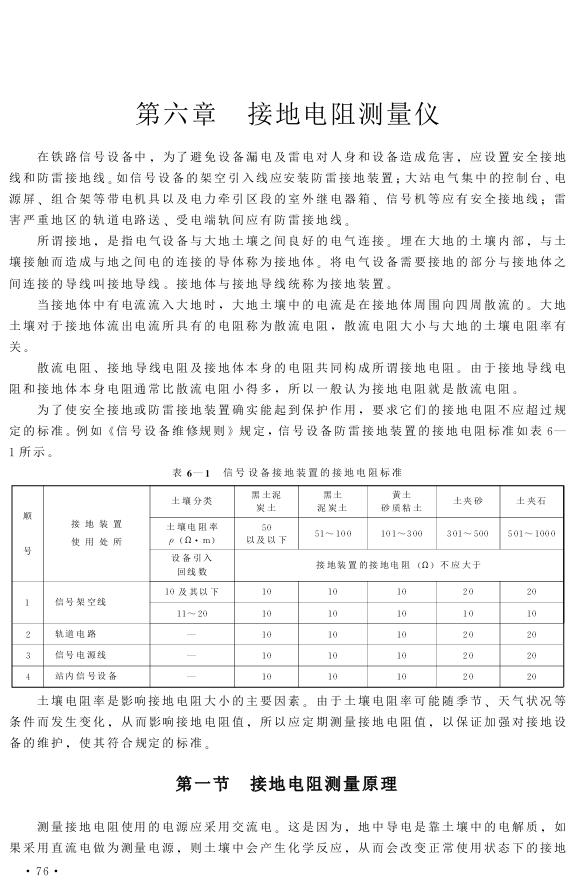table: (11, 485, 565, 688)
